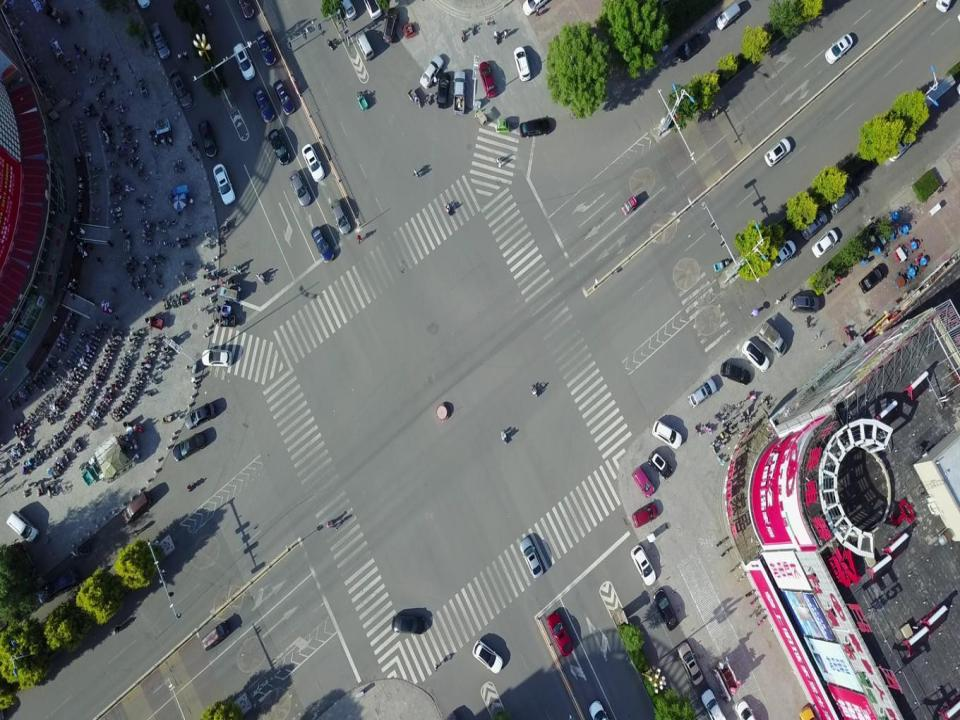car: (35, 570, 78, 602), (471, 638, 505, 672), (652, 588, 680, 628), (172, 433, 209, 463), (676, 640, 702, 682), (197, 618, 233, 648), (631, 543, 656, 586), (684, 377, 723, 404), (548, 613, 573, 655), (801, 204, 827, 243), (298, 145, 326, 181), (311, 223, 335, 264), (212, 165, 237, 204), (123, 488, 150, 524), (650, 420, 686, 447), (762, 141, 797, 168), (232, 44, 256, 82), (761, 322, 787, 357), (182, 401, 218, 426), (273, 77, 296, 116), (288, 170, 312, 207), (253, 86, 277, 123), (9, 513, 38, 543), (743, 342, 772, 372), (522, 535, 543, 576), (330, 198, 352, 236), (170, 72, 193, 108), (721, 359, 751, 386), (198, 121, 218, 160), (256, 29, 276, 67), (476, 62, 499, 95), (714, 4, 742, 31), (390, 615, 426, 636), (268, 132, 290, 166), (452, 69, 468, 114), (513, 47, 532, 84), (677, 34, 705, 59), (772, 243, 800, 268), (421, 56, 444, 86), (648, 451, 673, 478), (632, 503, 660, 526), (792, 292, 822, 313), (812, 233, 838, 257), (634, 466, 654, 497), (703, 691, 725, 718), (355, 32, 376, 60), (386, 6, 401, 44), (152, 26, 169, 58), (829, 184, 846, 216), (435, 74, 450, 109), (202, 347, 230, 365), (826, 35, 842, 66), (520, 0, 546, 15), (341, 1, 359, 21), (366, 2, 383, 22), (239, 3, 258, 19)
